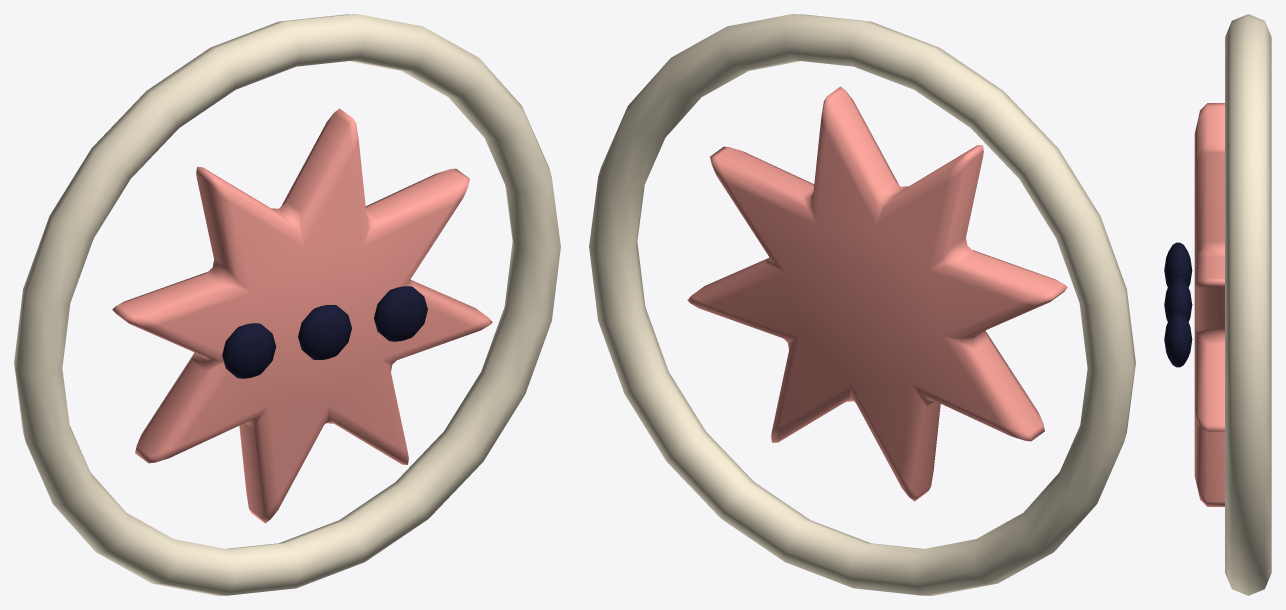
File: r062_dungeon_puzzle_symbols_symbol_06.glb
3 renders of one model, left to right at view 1: azimuth 30°, elevation 25°; view 2: azimuth 150°, elevation 25°; view 3: azimuth 270°, elevation 25°, orthographic. The views are drawn at different scales.
Parts seen in each view (by area): view 1: r062_dungeon_puzzle_symbols_symbol_06.001; view 2: r062_dungeon_puzzle_symbols_symbol_06.001; view 3: r062_dungeon_puzzle_symbols_symbol_06.001.
Boxes of the visible parts, <box> form: r062_dungeon_puzzle_symbols_symbol_06.001: <box>14,14,560,595</box>; r062_dungeon_puzzle_symbols_symbol_06.001: <box>589,14,1135,595</box>; r062_dungeon_puzzle_symbols_symbol_06.001: <box>1164,14,1271,595</box>.
Size of the model in its own units: 2.5 by 2.5 by 0.46.
